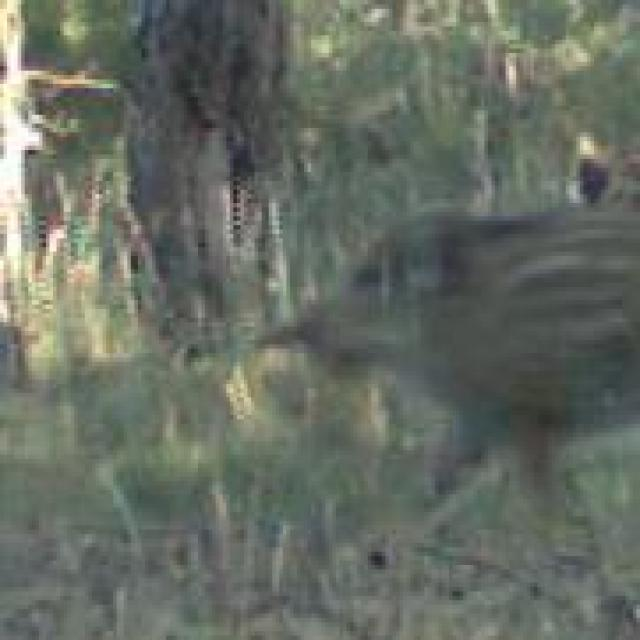pig: (275, 174, 640, 565)
